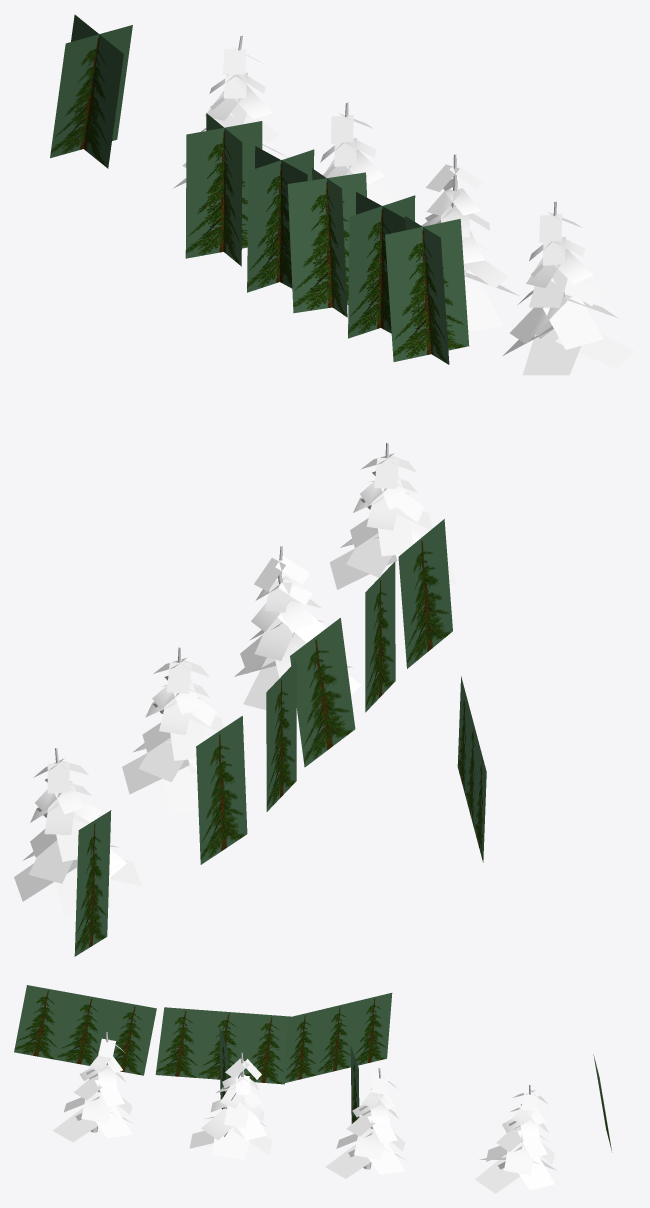
Rendered from frontTrees.glb.
3 views of the same model, one above another, from view 1: azimuth 30°, elevation 25°; view 2: azimuth 150°, elevation 25°; view 3: azimuth 270°, elevation 25° (orthographic). The views are drawn at different scales.
Visible parts, largest first — view 1: tree_1Low.png__, tree_1.png__; view 2: tree_1Low.png__, tree_1.png__; view 3: tree_1Low.png__, tree_1.png__, wooden2.png__.
Part boxes in pixels (bbox=[...]): tree_1Low.png__: bbox=[50, 14, 469, 364]; tree_1.png__: bbox=[173, 48, 635, 375]; tree_1Low.png__: bbox=[74, 519, 486, 956]; tree_1.png__: bbox=[14, 452, 456, 915]; tree_1Low.png__: bbox=[14, 985, 612, 1152]; tree_1.png__: bbox=[52, 1038, 556, 1193]; wooden2.png__: bbox=[75, 1052, 521, 1169].
Bounding box in the file's own units: 32.42 × 18.32 × 70.53.
Materials: 4 (1 with a texture image).
